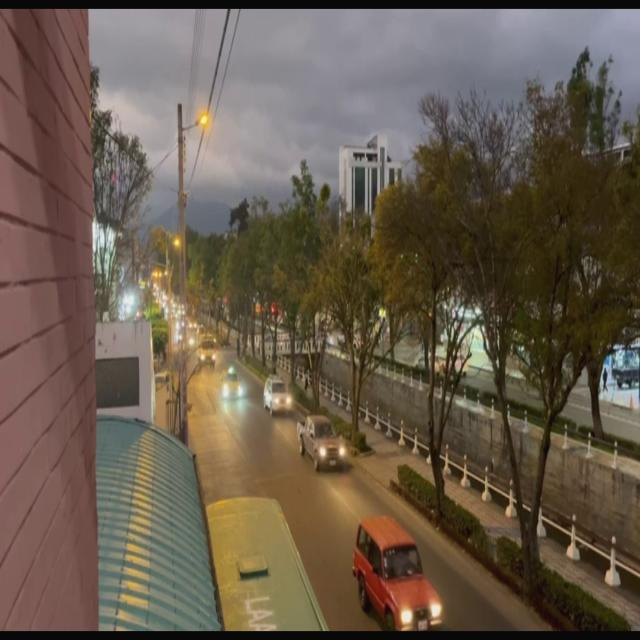CMT: (301, 416, 346, 468)
SED: (222, 374, 244, 399)
SUV: (360, 524, 443, 638), (266, 378, 292, 414)
TRUCK: (199, 335, 216, 370)
